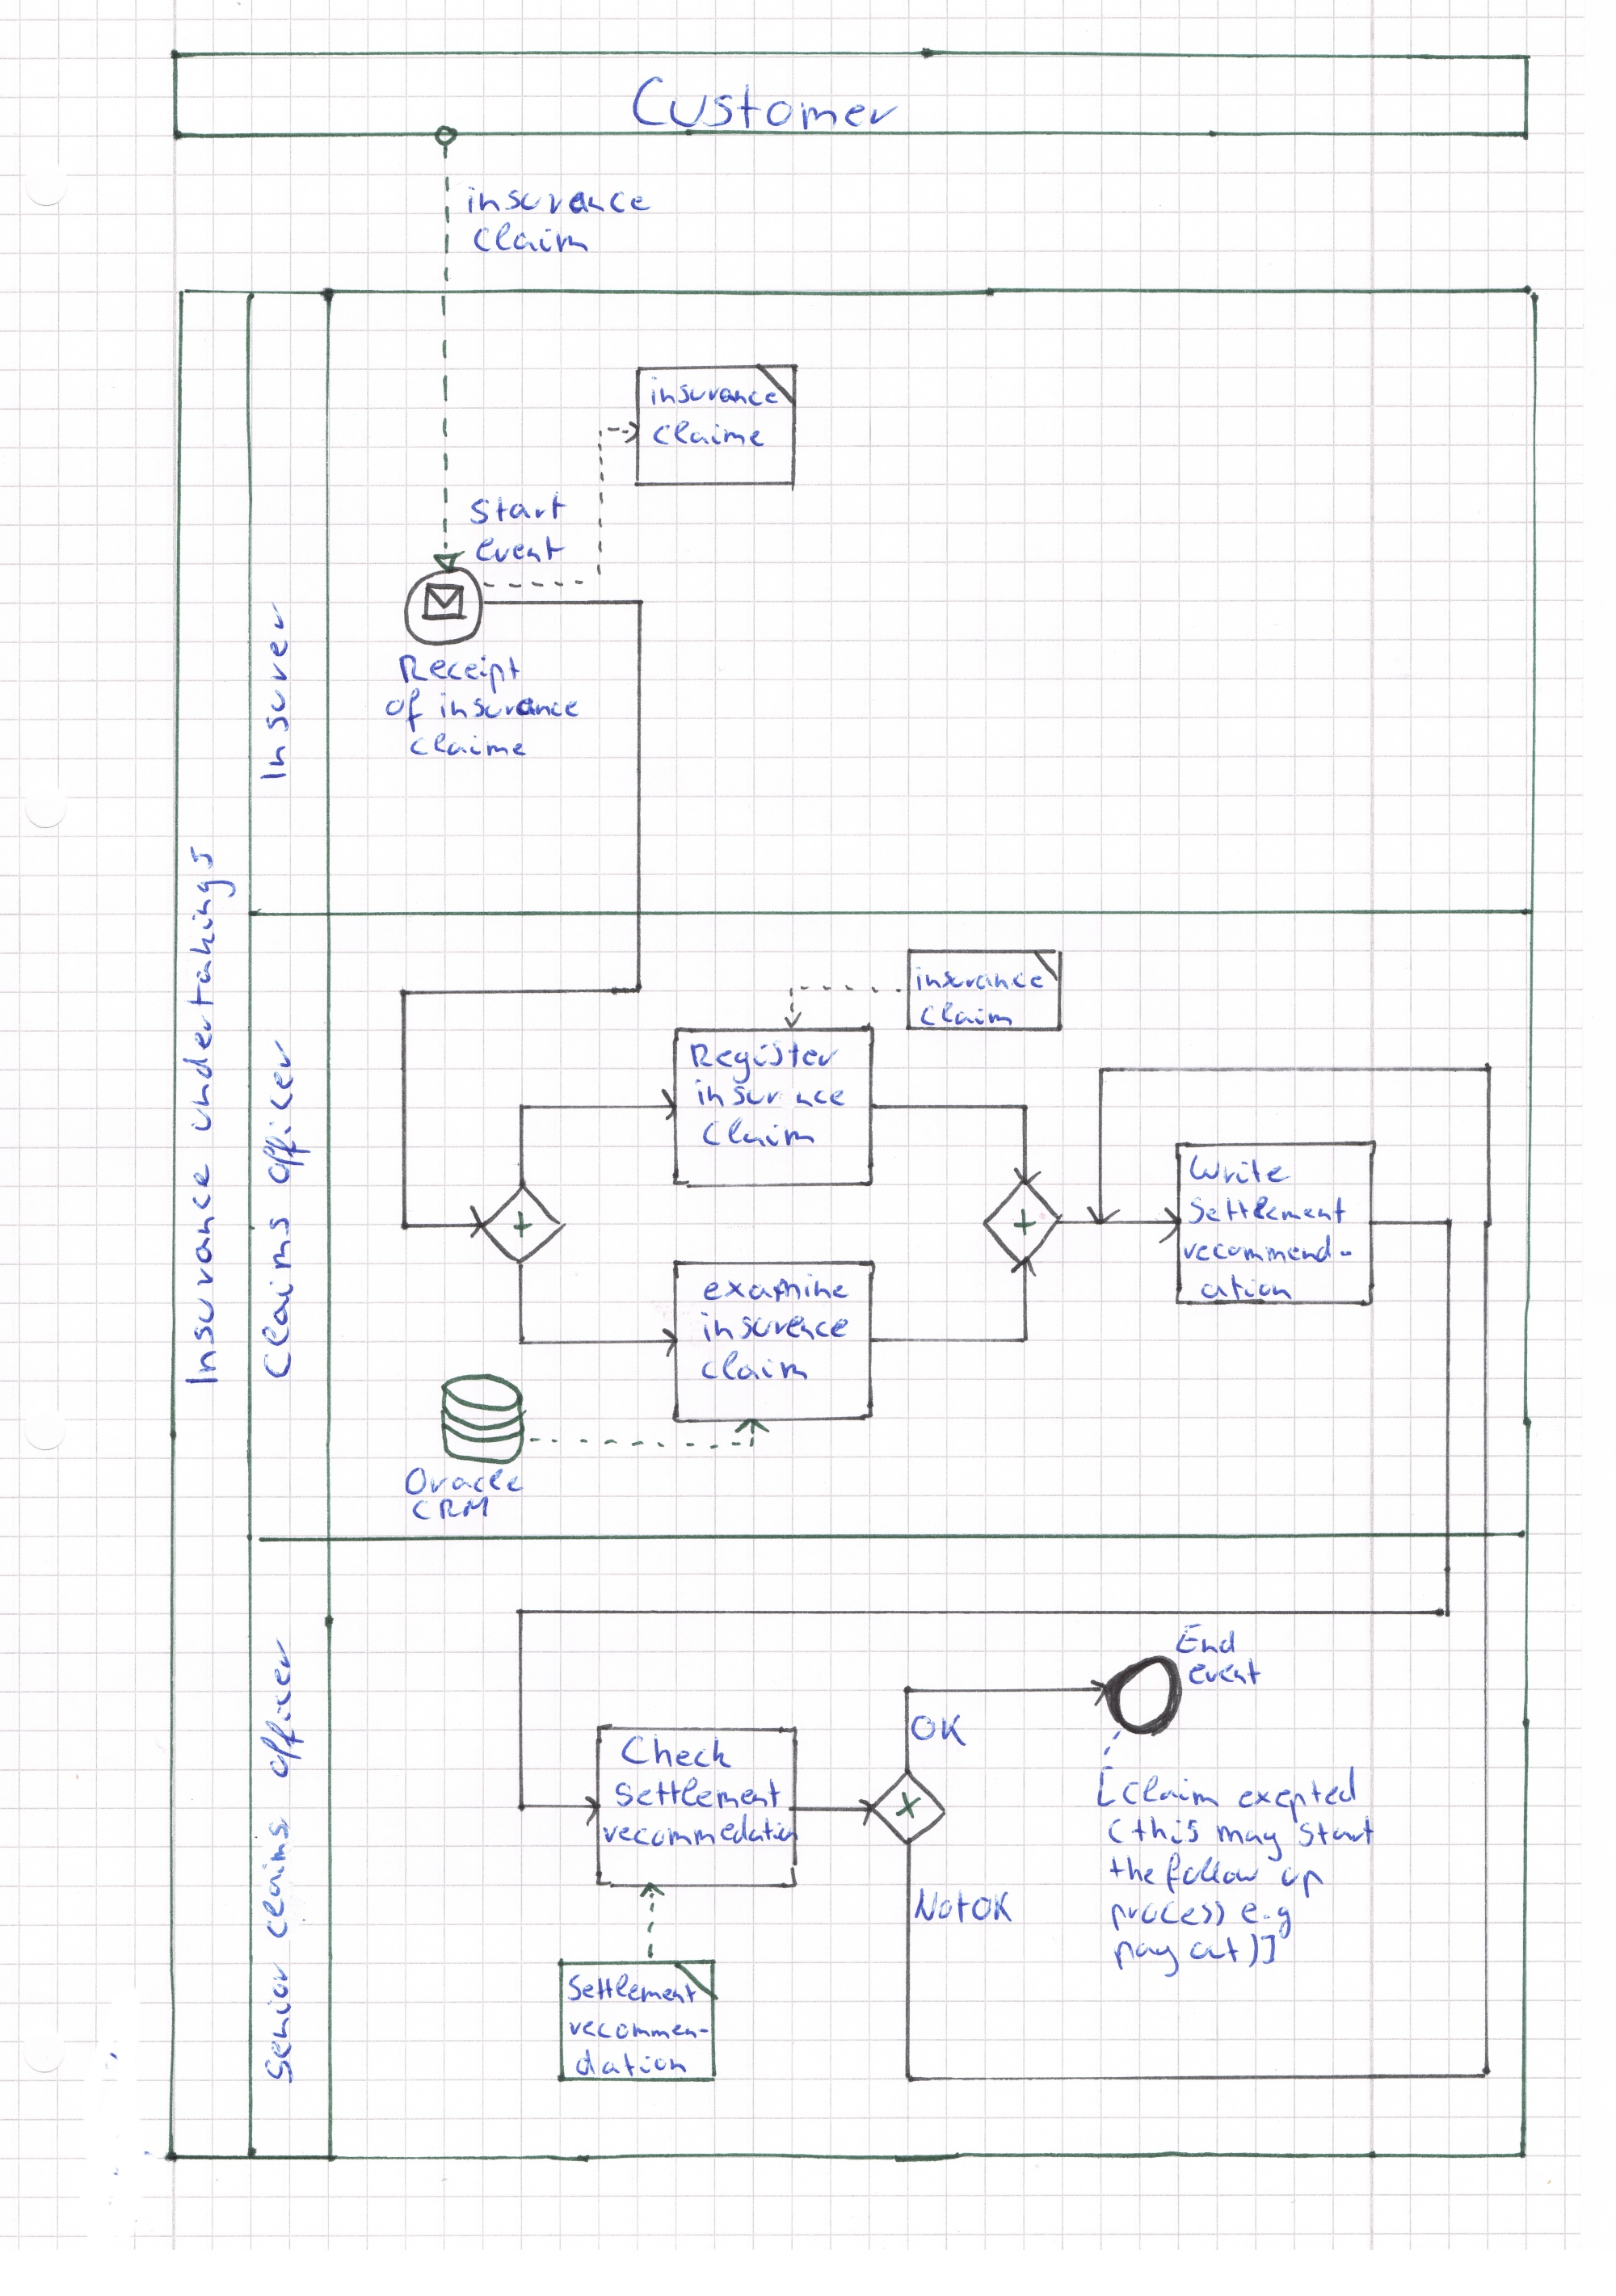(this: (1104, 1812, 1205, 1852)
CRM: (406, 1493, 495, 1527)
Check: (616, 1729, 738, 1775)
Claim: (696, 1110, 820, 1152)
Customer: (626, 70, 904, 138)
End: (1170, 1618, 1242, 1659)
Insurance: (177, 1156, 224, 1392)
Insurer: (254, 602, 294, 785)
Not: (909, 1882, 971, 1931)
OK: (908, 1710, 971, 1752), (967, 1887, 1018, 1927)
Oracle: (399, 1462, 530, 1500)
Receipt: (394, 649, 526, 699)
Register: (682, 1035, 848, 1091)
Settlement: (1182, 1191, 1350, 1231), (563, 1967, 701, 2011)
Start: (463, 486, 574, 532)
Write: (1184, 1149, 1298, 1193)
ation: (1195, 1270, 1298, 1305)
claim: (467, 217, 595, 261), (696, 1346, 811, 1388), (1116, 1768, 1224, 1812), (915, 997, 1018, 1032)
claime: (647, 414, 771, 453), (404, 727, 532, 764)
claims: (255, 1210, 297, 1383), (255, 1817, 296, 1945)
dation: (572, 2044, 693, 2081)
e.g: (1235, 1897, 1298, 1945)
event: (469, 532, 570, 568), (1182, 1652, 1266, 1691)
examine: (696, 1268, 855, 1306)
exepted: (1233, 1763, 1362, 1829)
follow: (1160, 1847, 1264, 1899)
insurance: (456, 180, 658, 222), (689, 1074, 850, 1116), (644, 371, 784, 413), (432, 687, 584, 726), (911, 962, 1049, 997)
insurence: (694, 1306, 853, 1346)
may: (1210, 1817, 1289, 1868)
of: (381, 684, 427, 738)
officer: (255, 1035, 318, 1191), (255, 1633, 308, 1784)
out)]: (1184, 1931, 1280, 1969)
pay: (1109, 1936, 1186, 1985)
process: (1105, 1896, 1229, 1938)
recommedation: (598, 1808, 803, 1854)
recommen-: (563, 2016, 712, 2044)
recommend-: (1181, 1229, 1359, 1268)
senior: (257, 1955, 299, 2090)
settlement: (610, 1771, 787, 1815)
start: (1292, 1812, 1380, 1852)
the: (1105, 1850, 1161, 1890)
undertakings: (178, 841, 241, 1138)
up: (1275, 1861, 1329, 1904)
